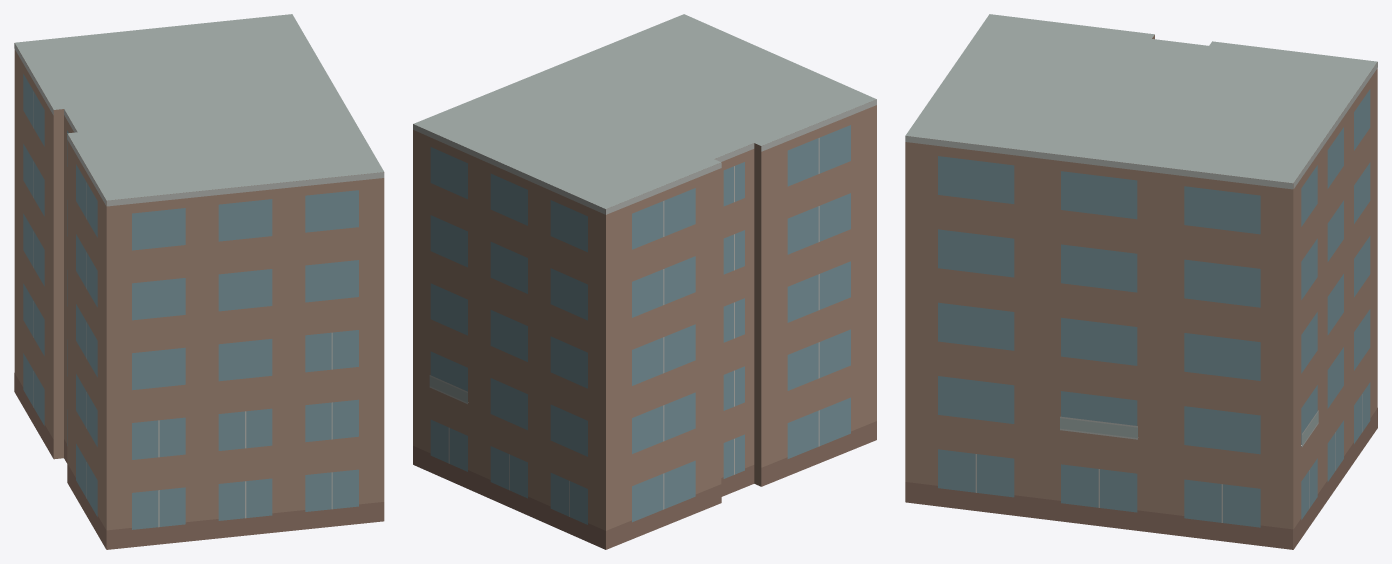
Rendered from survey-upis-32879709.glb.
3 renders of one model, left to right at view 1: azimuth 30°, elevation 25°; view 2: azimuth 150°, elevation 25°; view 3: azimuth 270°, elevation 25°, orthographic. The views are drawn at different scales.
Visible parts, largest first — view 1: survey-upis-32879709.tmp; view 2: survey-upis-32879709.tmp; view 3: survey-upis-32879709.tmp.
Boxes of the visible parts, x1,y1,x2,y2 form: survey-upis-32879709.tmp: (14, 14, 384, 549); survey-upis-32879709.tmp: (413, 14, 876, 549); survey-upis-32879709.tmp: (905, 14, 1377, 549).
Bounding box in the file's own units: 14.37 × 14.5 × 16.95.
